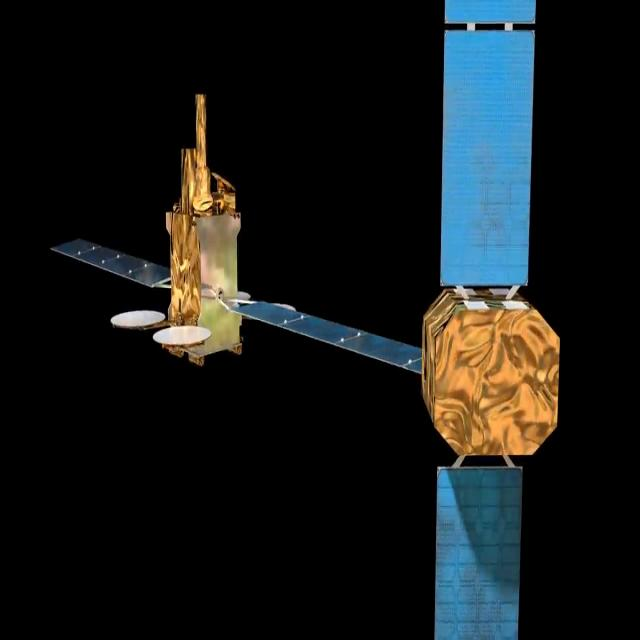satellite: (36, 0, 580, 640)
